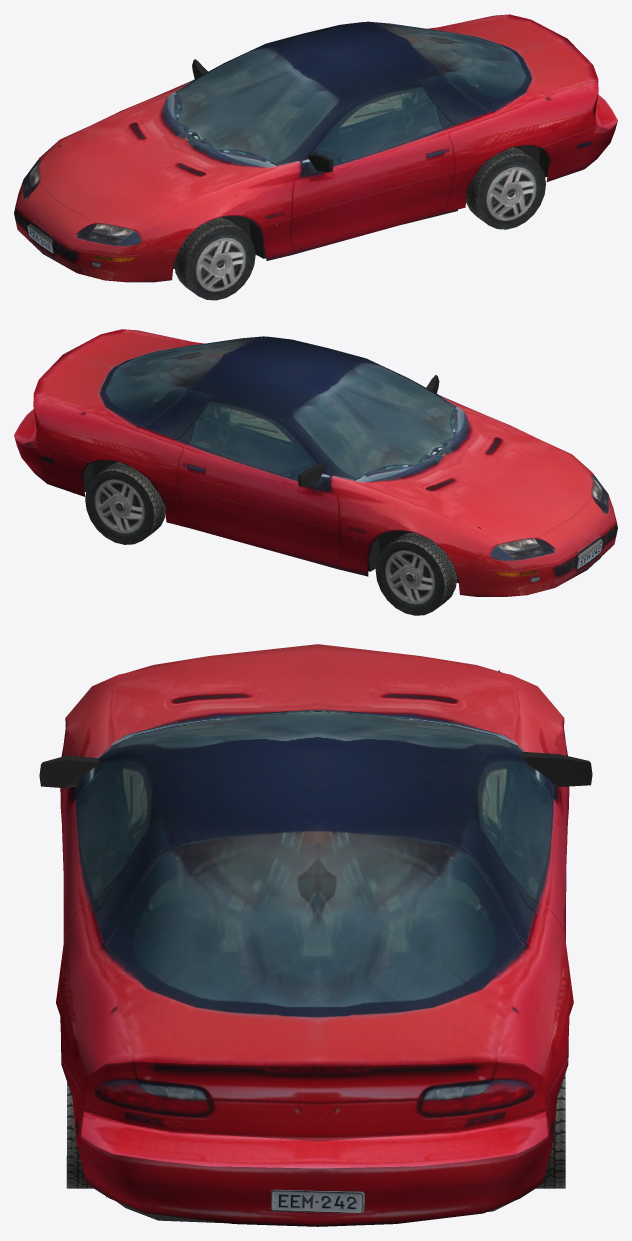
File: Car.glb
The picture shows the model from 3 angles, top to bottom: view 1: azimuth 30°, elevation 25°; view 2: azimuth 150°, elevation 25°; view 3: azimuth 270°, elevation 25°; orthographic projection. The views are drawn at different scales.
Visible parts, largest first — view 1: Obj3d66-1146673-149-152.1; view 2: Obj3d66-1146673-149-152.1; view 3: Obj3d66-1146673-149-152.1.
Part boxes in pixels (x1=…): Obj3d66-1146673-149-152.1: x1=14, y1=14, x2=617, y2=300; Obj3d66-1146673-149-152.1: x1=14, y1=329, x2=617, y2=615; Obj3d66-1146673-149-152.1: x1=39, y1=644, x2=592, y2=1226.
Size of the model in its own units: 19.57 by 5.35 by 8.63.
6 materials, 5 textured.
